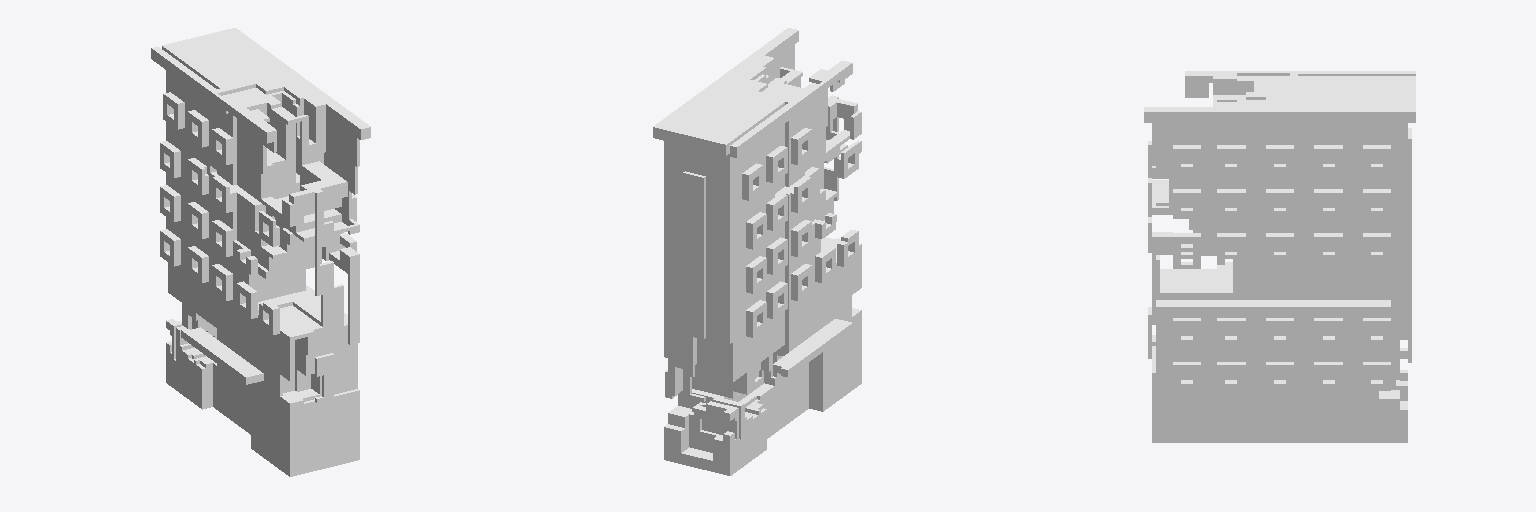
Rendered from rebuild_3.1.obj.
3 renders of one model, left to right at view 1: azimuth 30°, elevation 25°; view 2: azimuth 150°, elevation 25°; view 3: azimuth 270°, elevation 25°, orthographic.
Bounding box in the file's own units: 27 × 91 × 67.